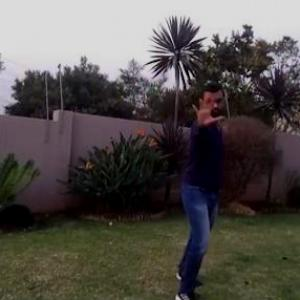follow_hand: (186, 92, 226, 136)
